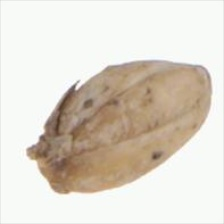L1: (25, 136, 69, 194), (192, 61, 213, 107)
L2: (26, 60, 212, 195)
